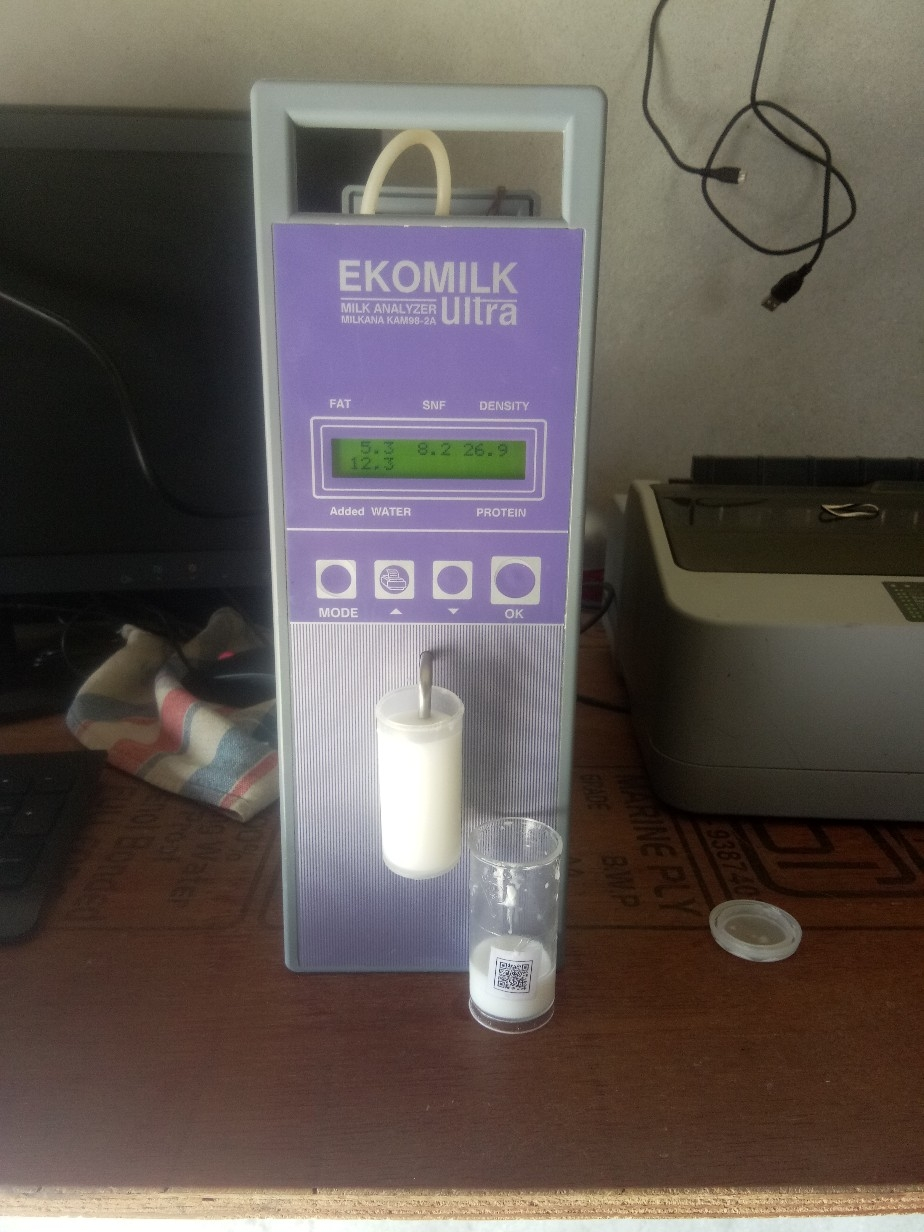lcd: (325, 431, 535, 487)
qr: (489, 949, 542, 999)
